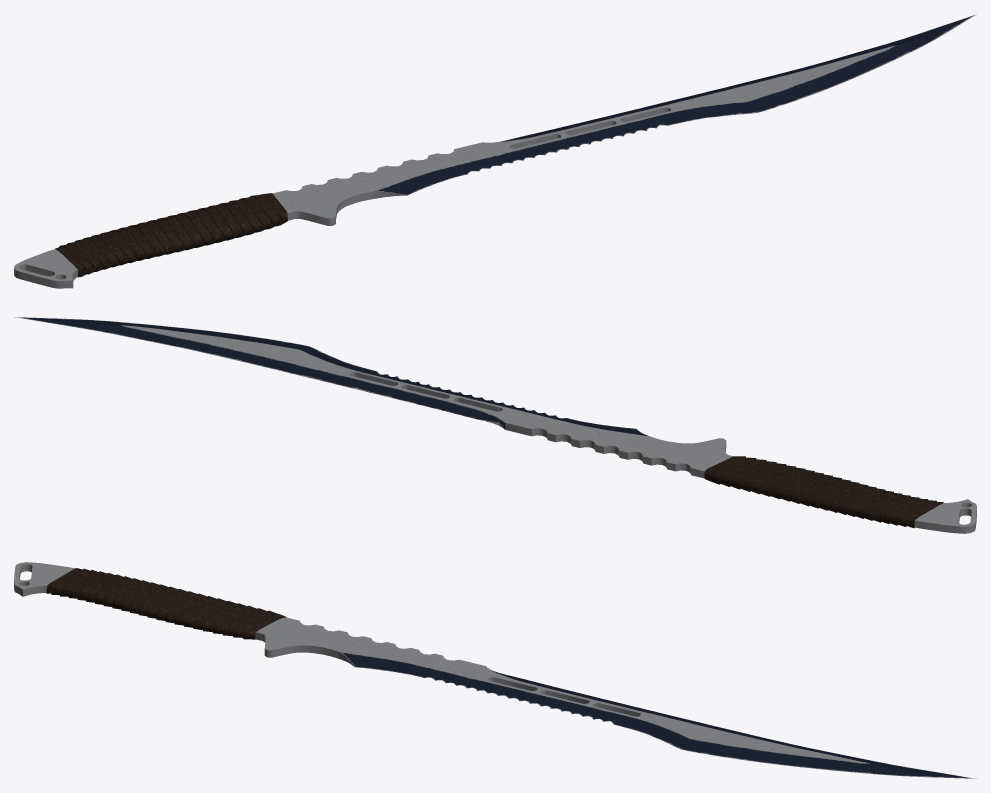
The model's file is melee_weapon_slade_wilson_blade.glb.
3 views of the same model, one above another, from view 1: azimuth 30°, elevation 25°; view 2: azimuth 150°, elevation 25°; view 3: azimuth 330°, elevation 25° (orthographic). The views are drawn at different scales.
Parts seen in each view (by area): view 1: Sword_01 - Default_0; view 2: Sword_01 - Default_0; view 3: Sword_01 - Default_0.
Part boxes in pixels (left/top/right/bottom): Sword_01 - Default_0: left=14, top=14, right=976, bottom=288; Sword_01 - Default_0: left=14, top=317, right=976, bottom=533; Sword_01 - Default_0: left=14, top=562, right=976, bottom=778.
Bounding box in the file's own units: 51.05 × 1.04 × 4.66.
Materials: 1 (1 with a texture image).
